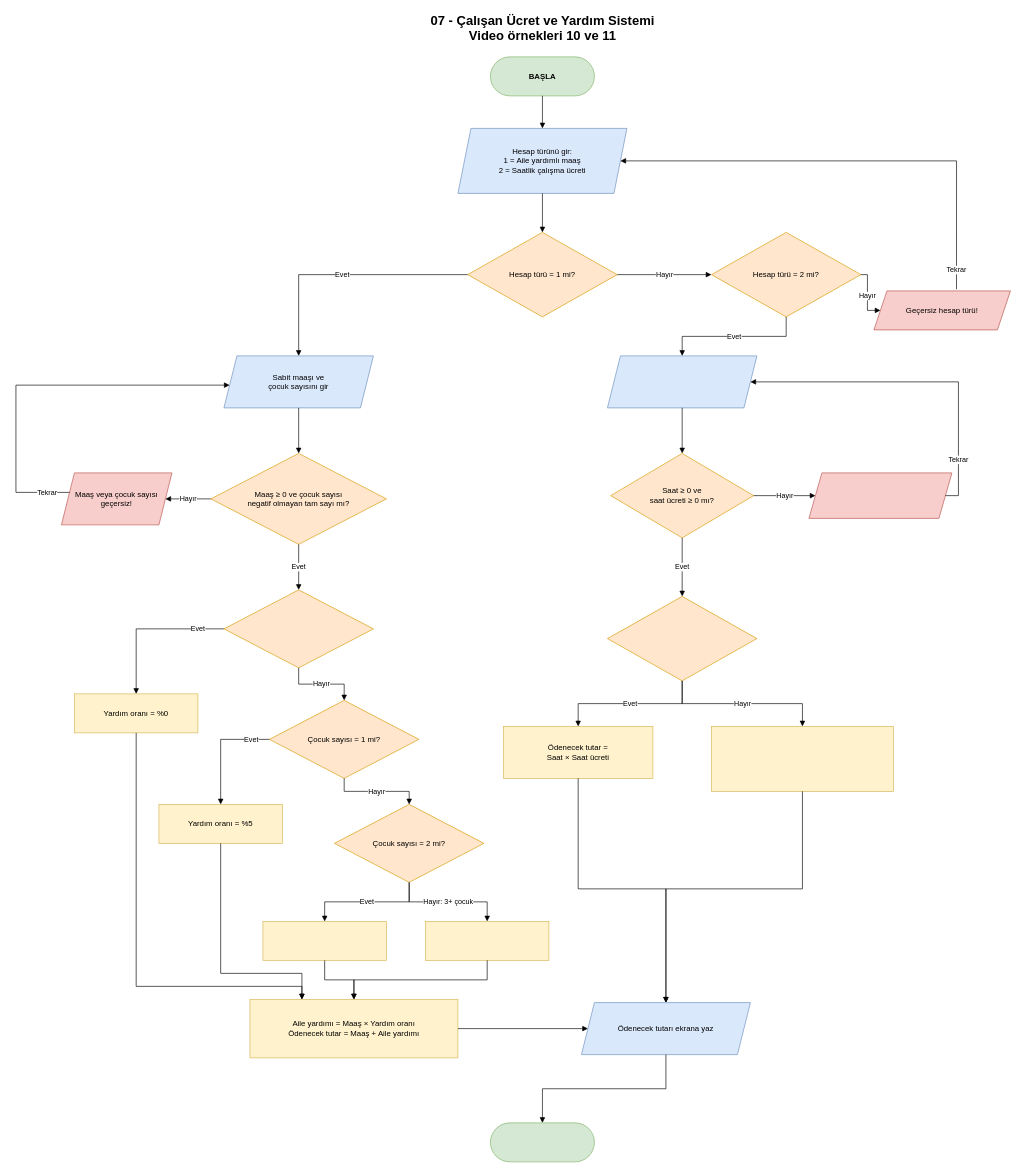
This 1022x1173 diagram has some shape labels left out. Each missing label, with the centre of its shape:
"BİTİR" belongs at (542,1142).
"Saat veya ücret geçersiz!" belongs at (880,495).
"Yardım oranı = %10" belongs at (324,940).
"Yardım oranı = %15" belongs at (487,940).
"Çalışılan saat ≤ 40 mı?" belongs at (682,638).
"Çalışılan saati ve saat ücretini gir" belongs at (682,381).
"Çocuk sayısı = 0 mı?" belongs at (298,628).
"Ödenecek tutar = 40 × Saat ücreti + (Saat − 40) × Saat ücreti × 2" belongs at (802,758).
